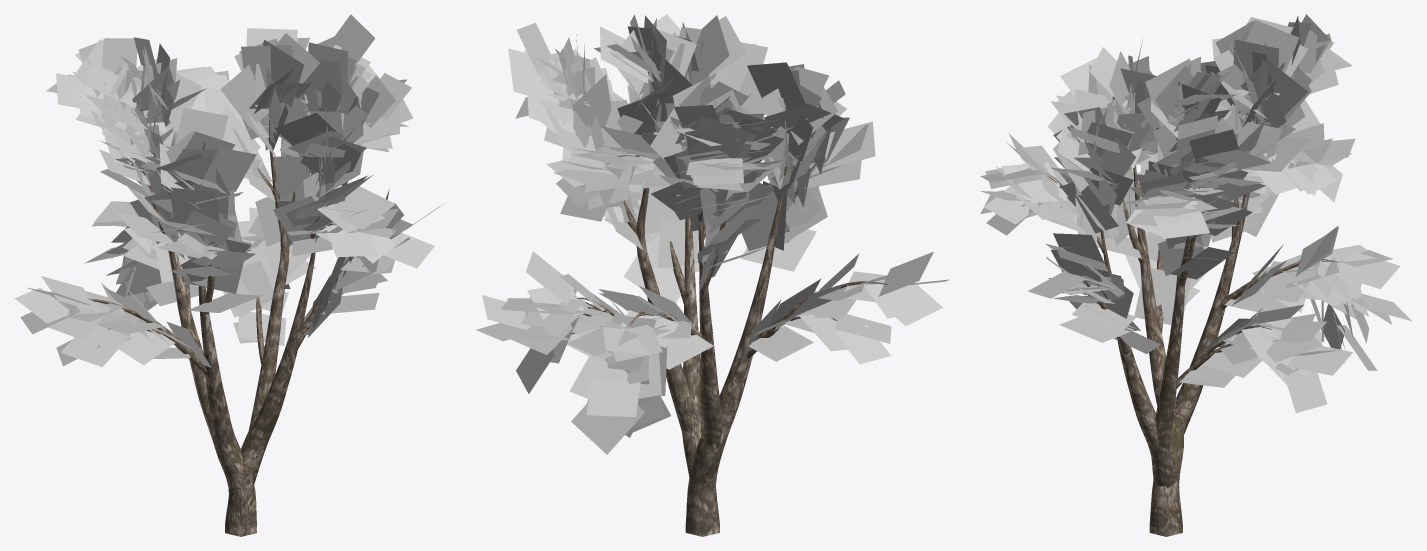
The model's file is Planicie1Trees.fbx.
3 views of the same model, side by side, from view 1: azimuth 30°, elevation 25°; view 2: azimuth 150°, elevation 25°; view 3: azimuth 270°, elevation 25° (orthographic). The views are drawn at different scales.
Visible parts, largest first — view 1: PlanicieTree1Leaves_LOD0, PlanicieTree1_LOD0; view 2: PlanicieTree1Leaves_LOD0, PlanicieTree1_LOD0; view 3: PlanicieTree1Leaves_LOD0, PlanicieTree1_LOD0.
Part boxes in pixels (x1=…): PlanicieTree1Leaves_LOD0: x1=15, y1=14, x2=442, y2=367; PlanicieTree1_LOD0: x1=88, y1=109, x2=401, y2=536; PlanicieTree1Leaves_LOD0: x1=476, y1=14, x2=949, y2=454; PlanicieTree1_LOD0: x1=571, y1=131, x2=888, y2=536; PlanicieTree1Leaves_LOD0: x1=980, y1=14, x2=1411, y2=413; PlanicieTree1_LOD0: x1=1047, y1=116, x2=1341, y2=536.
Size of what is drawn, in the model's own units: 9.44 by 10.88 by 8.69.
